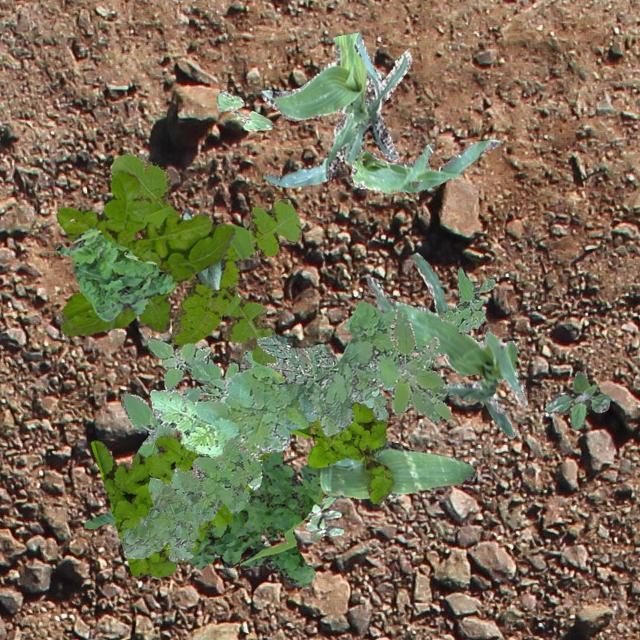crop: (366, 252, 526, 436), (260, 32, 410, 186), (296, 441, 472, 498), (350, 138, 500, 192), (180, 208, 224, 290), (216, 90, 272, 130)
weed: (90, 400, 392, 576), (148, 300, 414, 488), (106, 152, 300, 364), (84, 450, 322, 586), (56, 168, 232, 334), (120, 436, 260, 560), (120, 334, 238, 456), (54, 227, 174, 321), (256, 334, 364, 404), (388, 308, 449, 422), (438, 268, 494, 334), (544, 371, 608, 428), (304, 494, 342, 540)
